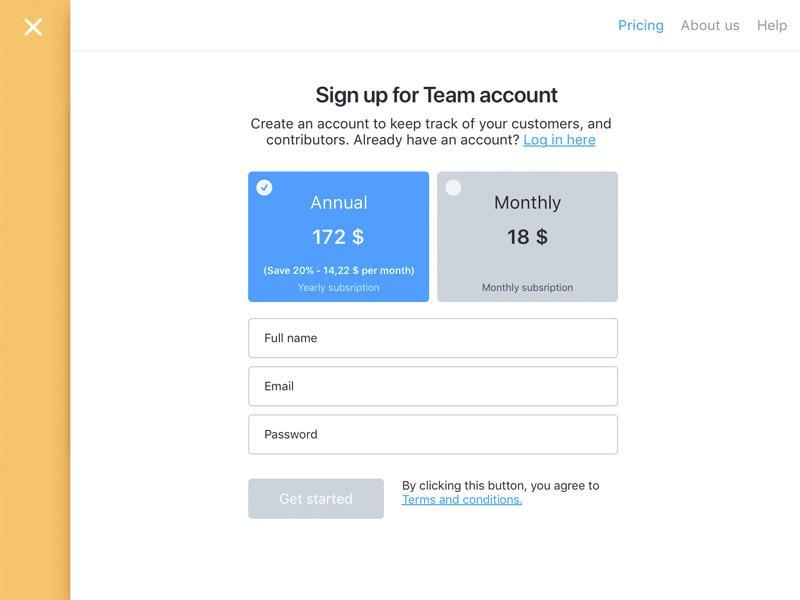button: (250, 480, 384, 520)
checkbox: (255, 178, 278, 199)
input: (249, 319, 618, 360), (250, 366, 619, 407), (249, 416, 618, 455)
radio: (444, 177, 464, 200)
